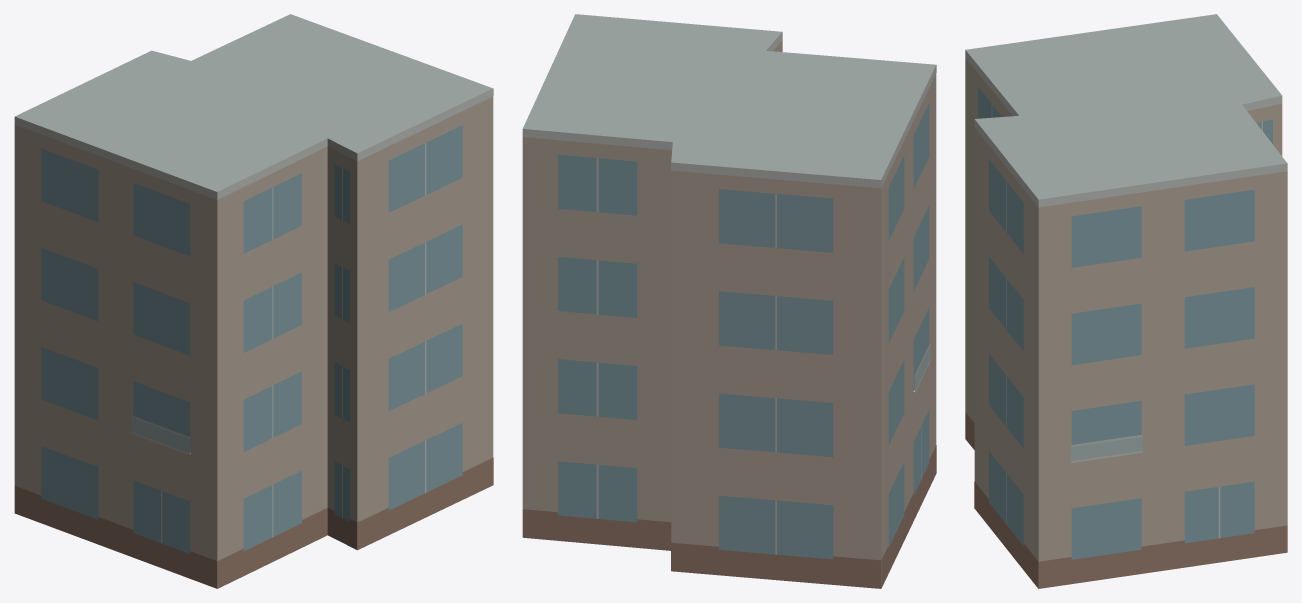
The model's file is survey-upis-32997642.glb.
The picture shows the model from 3 angles, left to right: view 1: azimuth 30°, elevation 25°; view 2: azimuth 150°, elevation 25°; view 3: azimuth 270°, elevation 25°; orthographic projection. The views are drawn at different scales.
Parts seen in each view (by area): view 1: survey-upis-32997642.tmp; view 2: survey-upis-32997642.tmp; view 3: survey-upis-32997642.tmp.
Part boxes in pixels (x1,y1,x2,y2): survey-upis-32997642.tmp: (14, 14, 493, 588); survey-upis-32997642.tmp: (522, 14, 936, 588); survey-upis-32997642.tmp: (965, 14, 1287, 588).
Bounding box in the file's own units: 12.49 × 12.2 × 9.16.
